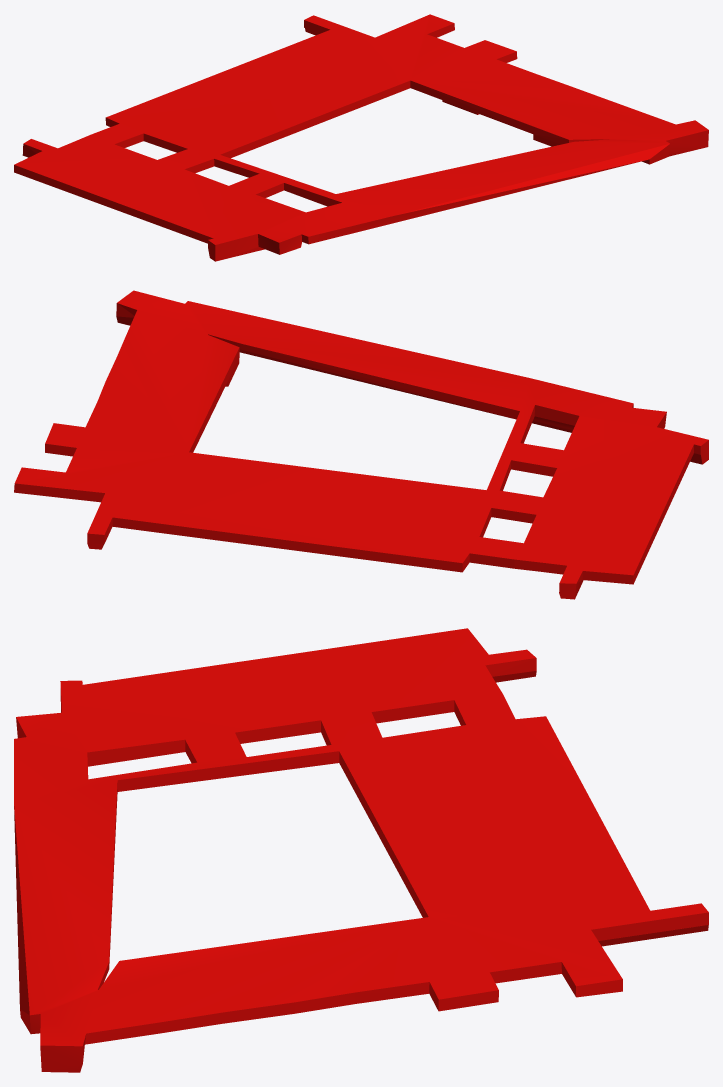
3 views of the same model, one above another, from view 1: azimuth 30°, elevation 25°; view 2: azimuth 150°, elevation 25°; view 3: azimuth 270°, elevation 25° (orthographic). The views are drawn at different scales.
Visible parts, largest first — view 1: Plane; view 2: Plane; view 3: Plane.
Boxes of the visible parts, x1,y1,x2,y2 form: Plane: (14,14,708,261); Plane: (14,290,708,599); Plane: (14,628,708,1072).
Size of the model in its own units: 8803 by 306 by 6177.
